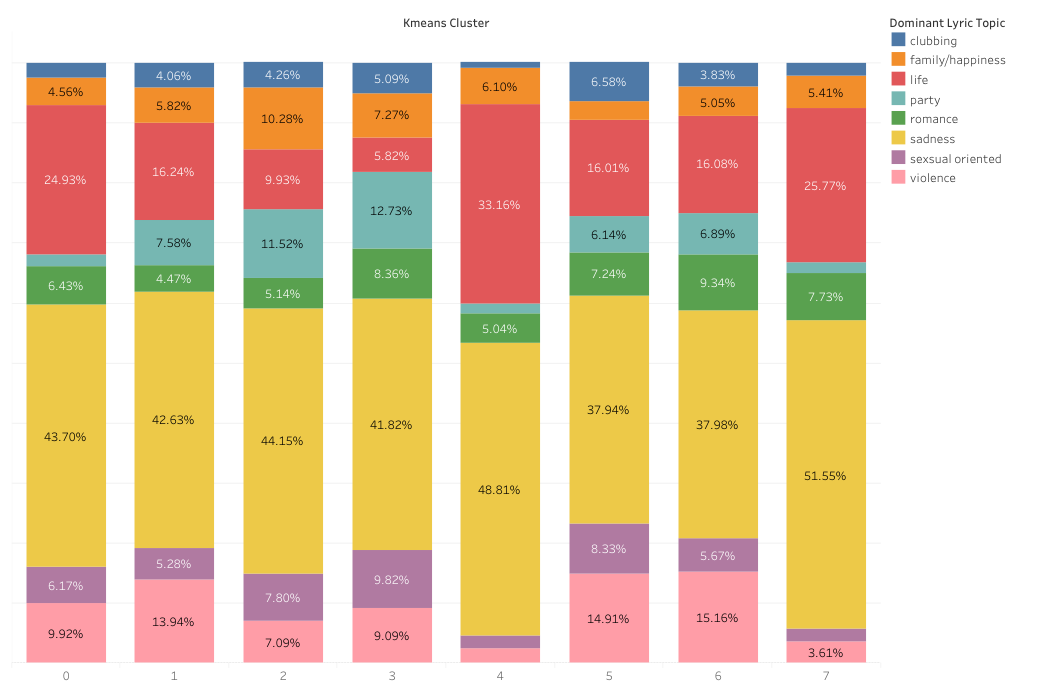

Layout of this report page (visuals, bound fields, positions):
{"tool":"tableau","page":{"name":"Dashboard 1","canvas":[1000,1000],"units":"permille","ordinal":0},"visuals":[{"type":"worksheet","title":"Sheet 2","mark":"Automatic","cols":["kmeans_cluster"],"box":[7.8,12.1,829.1,975.9]},{"type":"legend","title":"Sheet 2","param":"[federated.040r2f301z6ijn118j9cx0uaqe07].[none:dominant lyric topic:nk]","box":[836.9,12.1,155.3,280.6]}]}

Visuals, with their boxes on the dashboard's canvas, which has no fixed pixel size, in thousandths of its width and height (x1, y1, x2, y2). These are canvas units, not pixel positions in the 1050x698 screenshot, which may show the page scaled, cropped or inside an application window:
"Sheet 2" worksheet: bbox(8, 12, 837, 988)
"Sheet 2" legend: bbox(837, 12, 992, 293)
